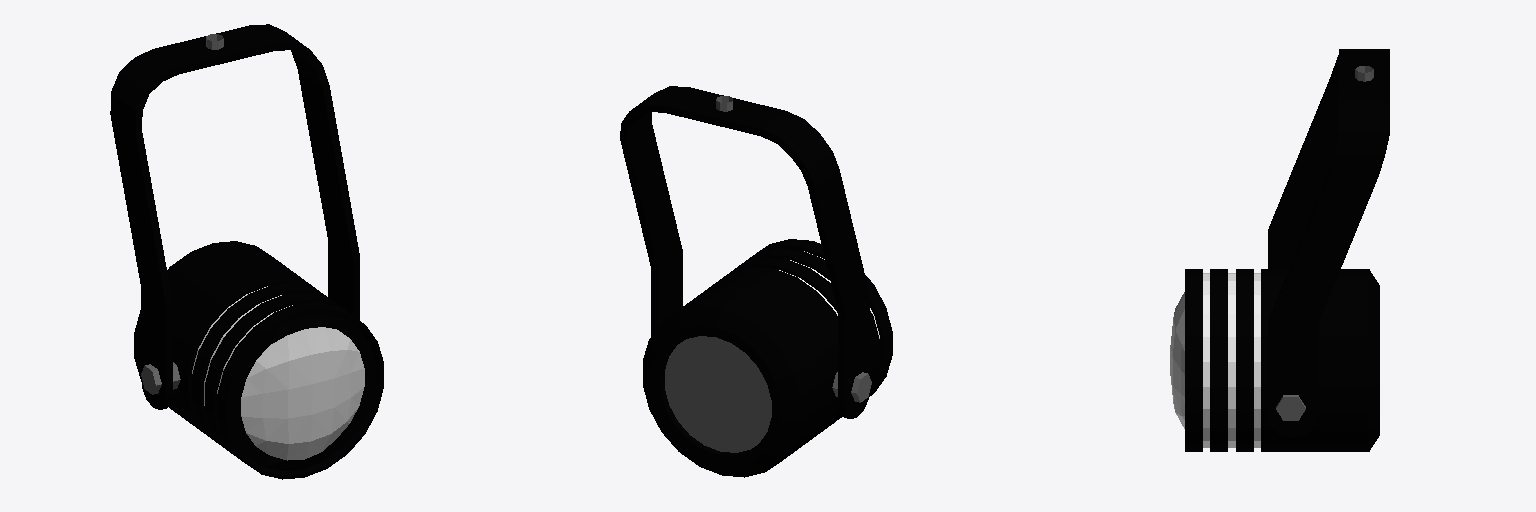
The model's file is roundSpot.obj.
The picture shows the model from 3 angles: view 1: azimuth 30°, elevation 25°; view 2: azimuth 150°, elevation 25°; view 3: azimuth 270°, elevation 25°; orthographic projection.
Parts seen in each view (by area): view 1: obj1, obj3, obj2; view 2: obj1, obj2; view 3: obj1, obj4, obj3, obj2.
Part boxes in pixels (bbox=[...]): obj1: bbox=[110, 24, 383, 479]; obj3: bbox=[241, 327, 364, 460]; obj2: bbox=[141, 34, 223, 394]; obj1: bbox=[620, 86, 892, 477]; obj2: bbox=[665, 96, 871, 452]; obj1: bbox=[1185, 49, 1389, 451]; obj4: bbox=[1203, 273, 1260, 447]; obj3: bbox=[1170, 292, 1184, 428]; obj2: bbox=[1276, 66, 1373, 420].
Size of the model in its own units: 0.6738 by 1.18 by 0.6265.